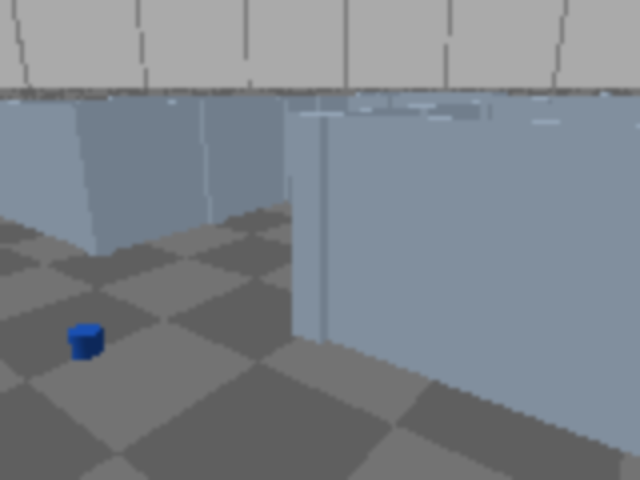puck: (69, 325, 104, 357)
